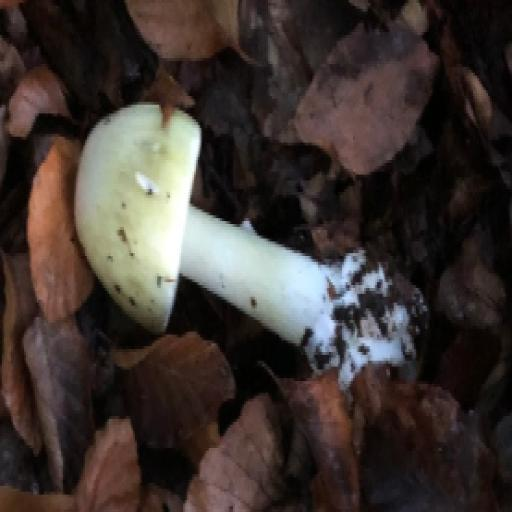mushroom: (15, 73, 451, 470)
